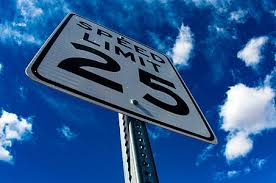sp25: (63, 35, 193, 114)
